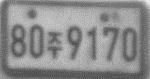0: (121, 26, 139, 62), (28, 24, 46, 58)
1: (85, 25, 98, 61)
7: (101, 26, 120, 61)
8: (10, 23, 27, 58)
9: (65, 25, 83, 61)
주: (46, 30, 63, 59)
